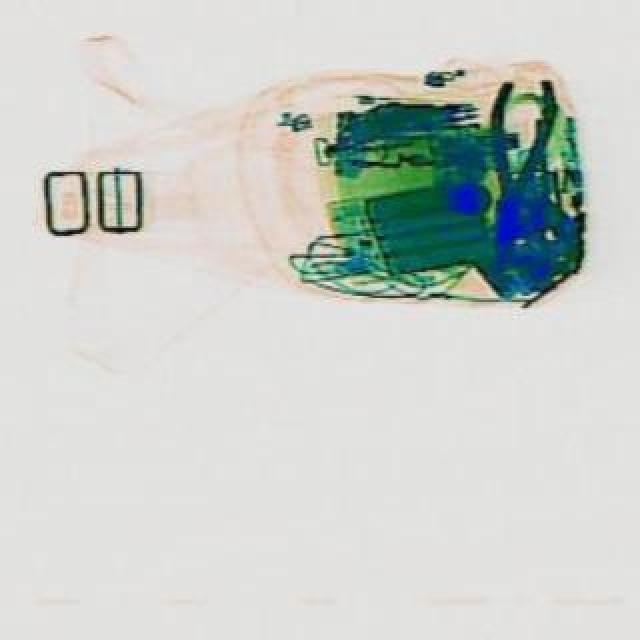wrench: (462, 70, 558, 256)
